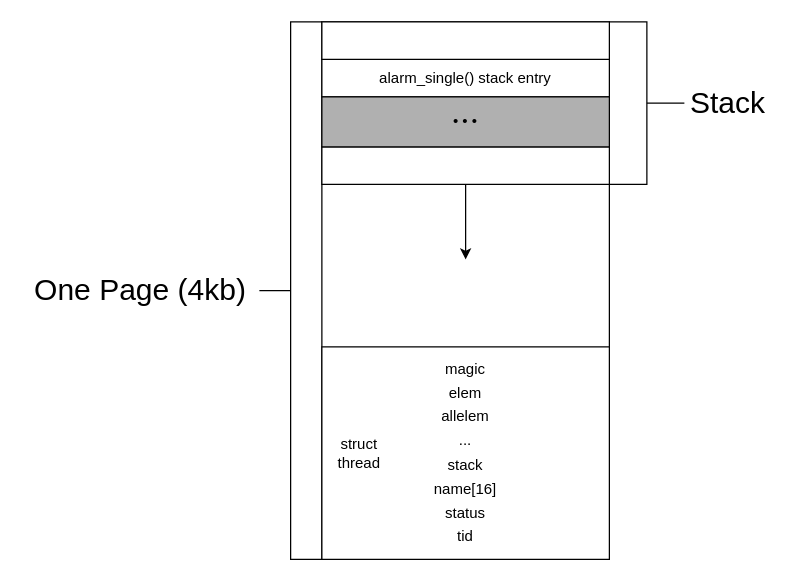
Some shapes in this 793 by 586 pixel diagram are drawn without their labels. The centre of each missing label's shape, as x and y in pixels:
"kernal_thread() stack entry" goes at (x=465, y=40).
"test_sleep() stack entry" goes at (x=465, y=165).
